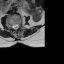CCS_normal: (14, 22, 17, 30)
LFS_normal: (19, 22, 21, 29)
LLS_normal: (17, 23, 19, 29)
RFS_normal: (9, 23, 12, 29)
RLS_normal: (12, 23, 14, 30)
